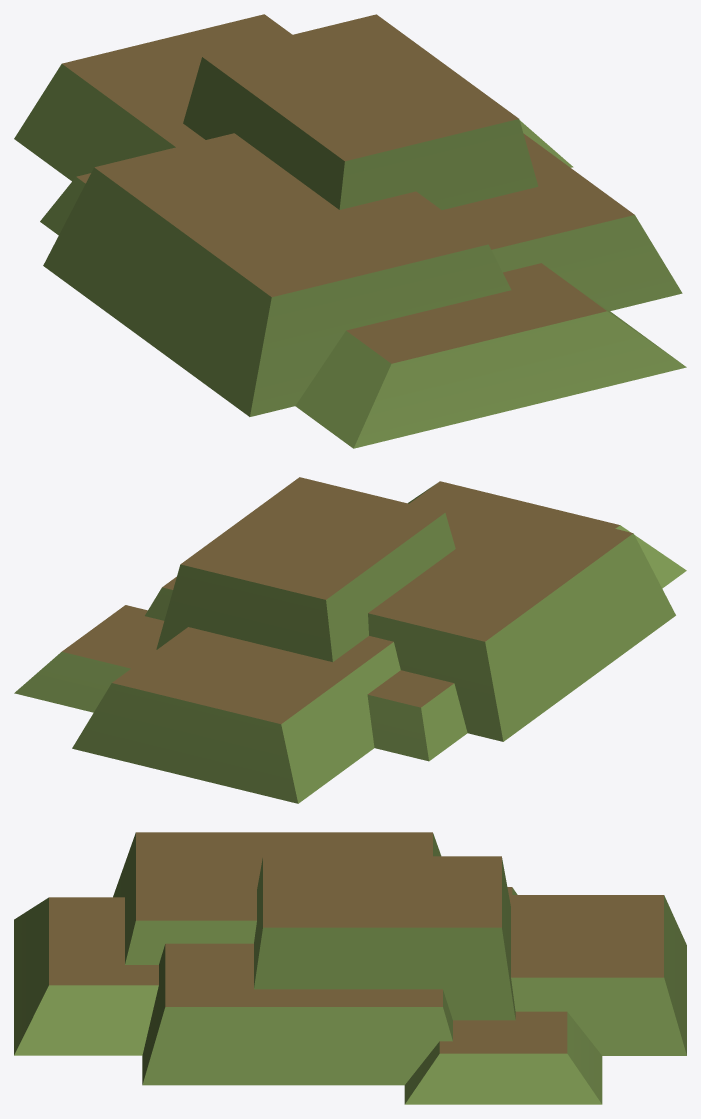
The model's file is SM_Env_Rock_Brown_01.gltf.
3 views of the same model, one above another, from view 1: azimuth 30°, elevation 25°; view 2: azimuth 150°, elevation 25°; view 3: azimuth 270°, elevation 25° (orthographic). The views are drawn at different scales.
Parts seen in each view (by area): view 1: SM_Env_Rock_Brown_01; view 2: SM_Env_Rock_Brown_01; view 3: SM_Env_Rock_Brown_01.
Part boxes in pixels (x1=…): SM_Env_Rock_Brown_01: x1=14, y1=14, x2=686, y2=448; SM_Env_Rock_Brown_01: x1=14, y1=477, x2=686, y2=803; SM_Env_Rock_Brown_01: x1=14, y1=832, x2=686, y2=1104.
Bounding box in the file's own units: 2.67 × 0.7384 × 3.74.
1 material, 1 textured.
